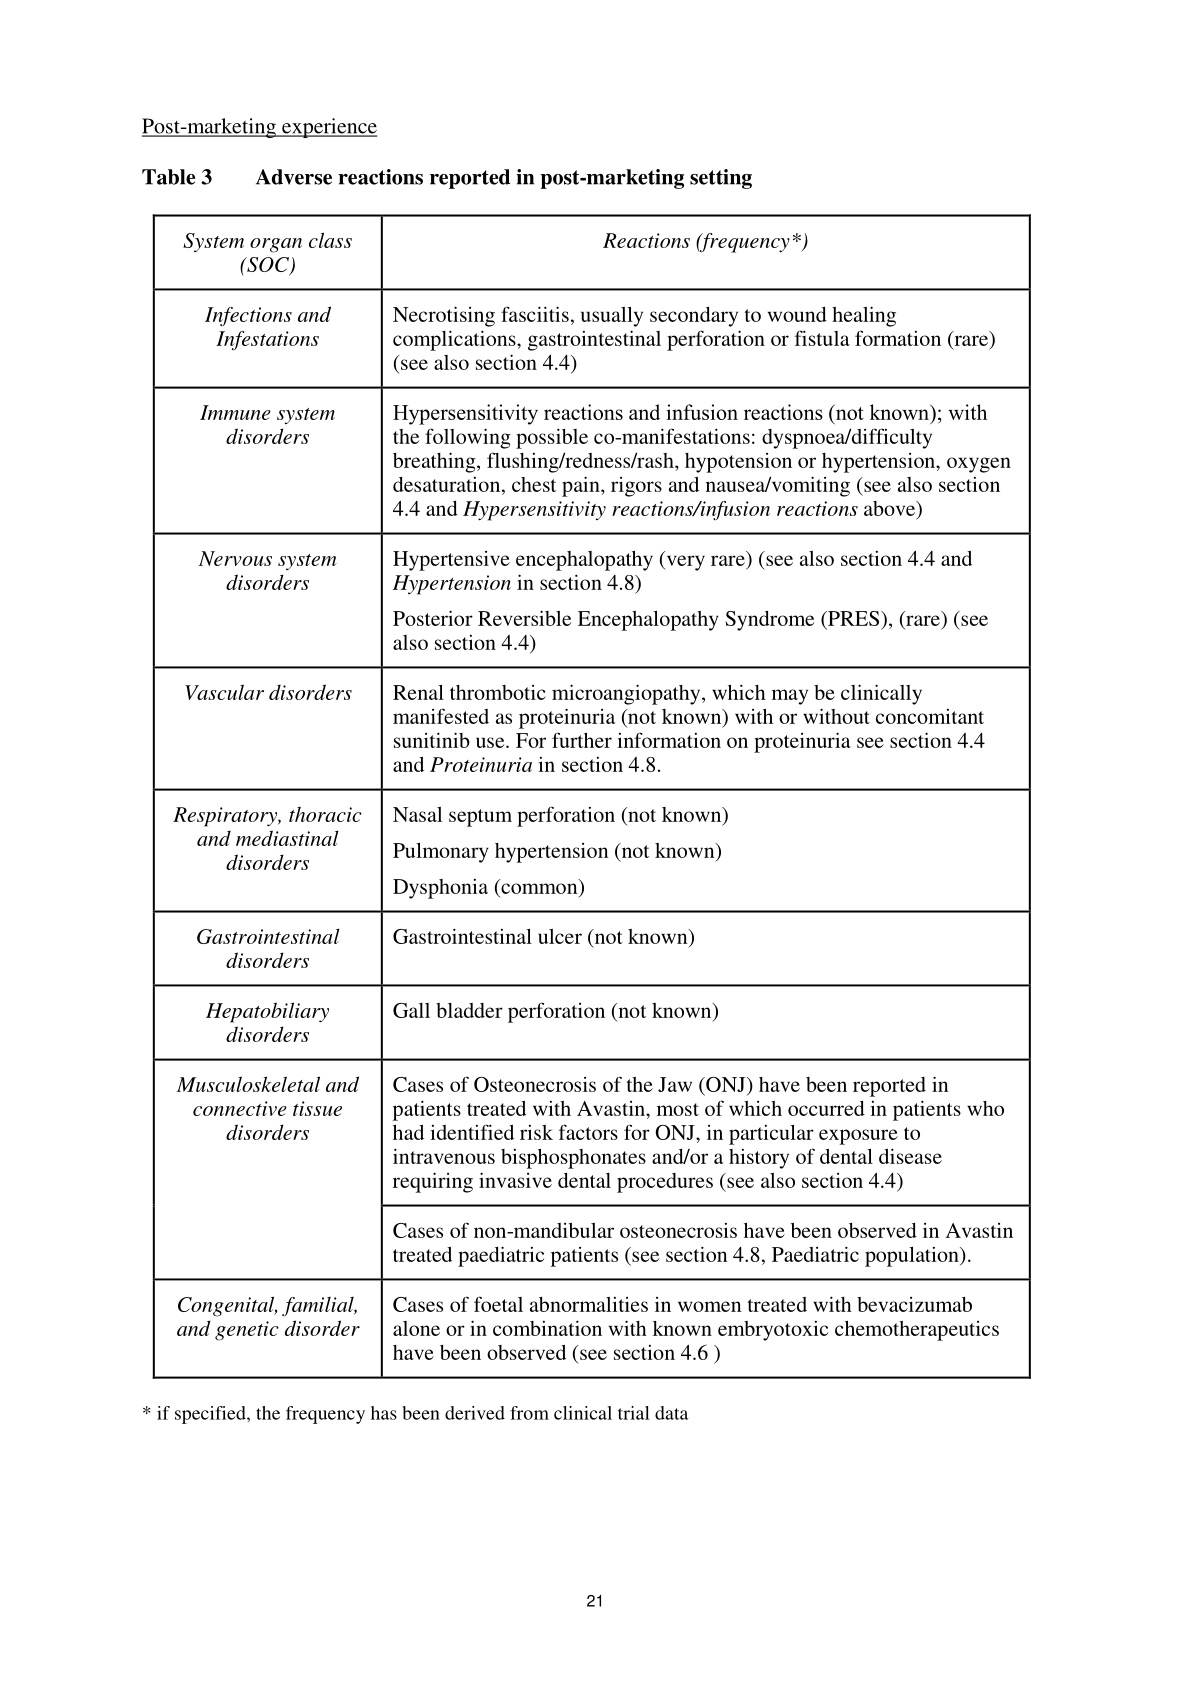merged_cells: (152, 214, 1032, 1379)
